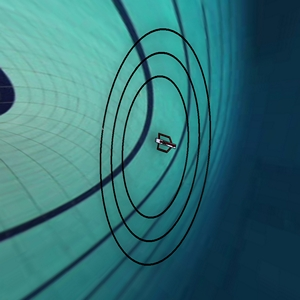circle: (82, 19, 230, 276)
submarine: (142, 124, 182, 162)
